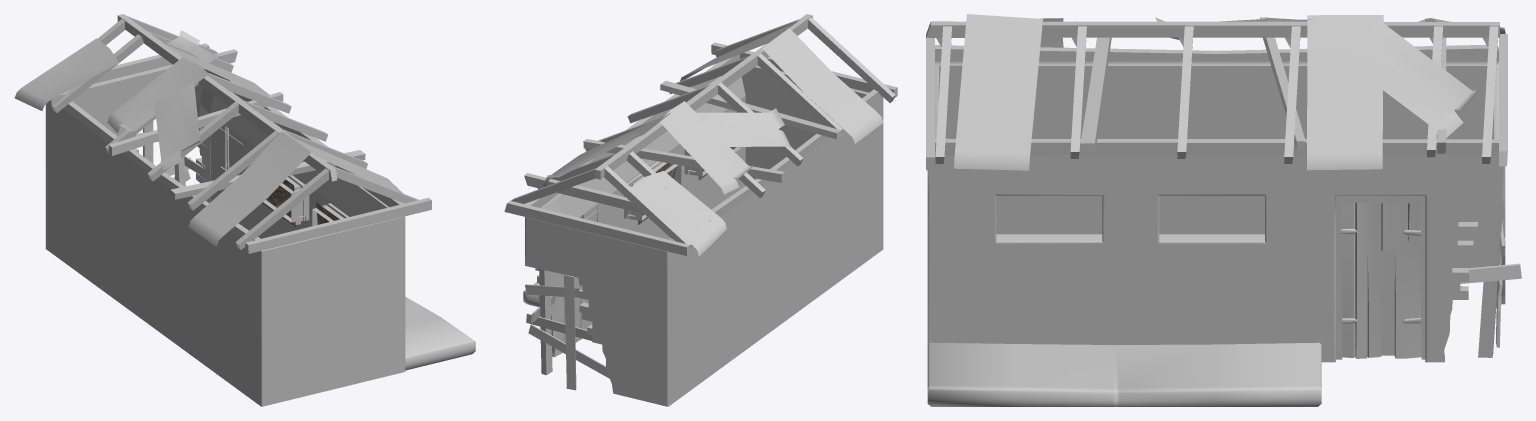
The model's file is house.fbx.
3 renders of one model, left to right at view 1: azimuth 30°, elevation 25°; view 2: azimuth 150°, elevation 25°; view 3: azimuth 270°, elevation 25°, orthographic. The views are drawn at different scales.
Visible parts, largest first — view 1: polySurface8; view 2: polySurface8; view 3: polySurface8.
Part boxes in pixels (box(x1,y1,x2,y2)): polySurface8: box(14, 14, 475, 406); polySurface8: box(504, 14, 897, 406); polySurface8: box(926, 14, 1521, 406).
Bounding box in the file's own units: 18.98 × 17.18 × 29.83.
